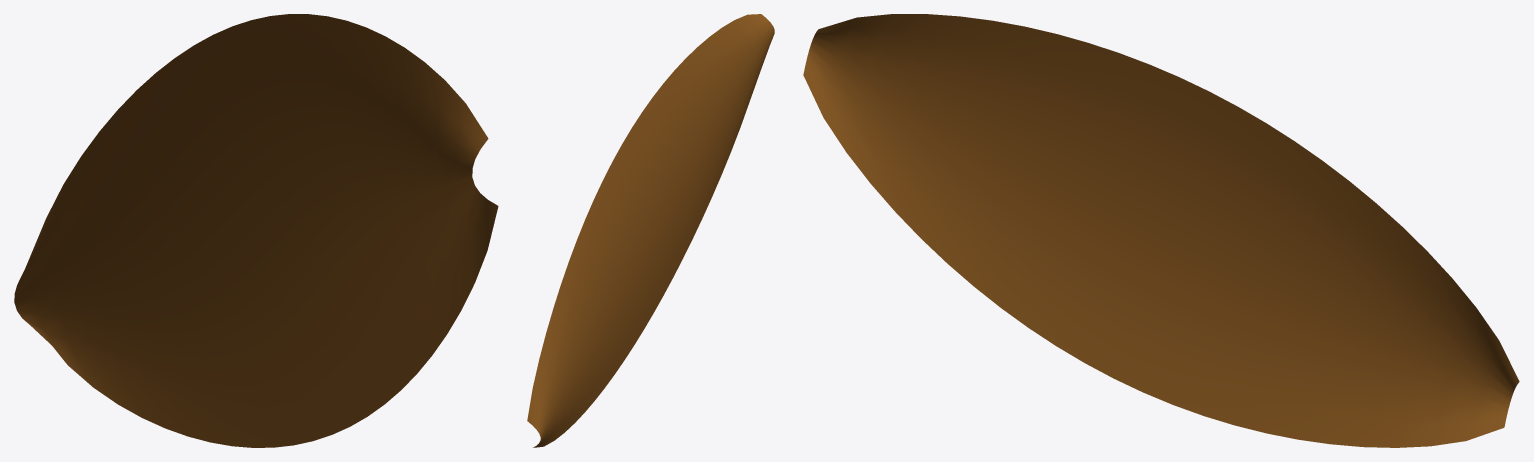
The model's file is SM_Amber_Seed.obj.
3 views of the same model, side by side, from view 1: azimuth 30°, elevation 25°; view 2: azimuth 150°, elevation 25°; view 3: azimuth 270°, elevation 25° (orthographic). The views are drawn at different scales.
Visible parts, largest first — view 1: Seed; view 2: Seed; view 3: Seed.
Part boxes in pixels (x1=…): Seed: x1=14, y1=14, x2=498, y2=447; Seed: x1=527, y1=14, x2=774, y2=447; Seed: x1=803, y1=14, x2=1519, y2=447.
Size of the model in its own units: 0.0734 by 1.03 by 1.54.
